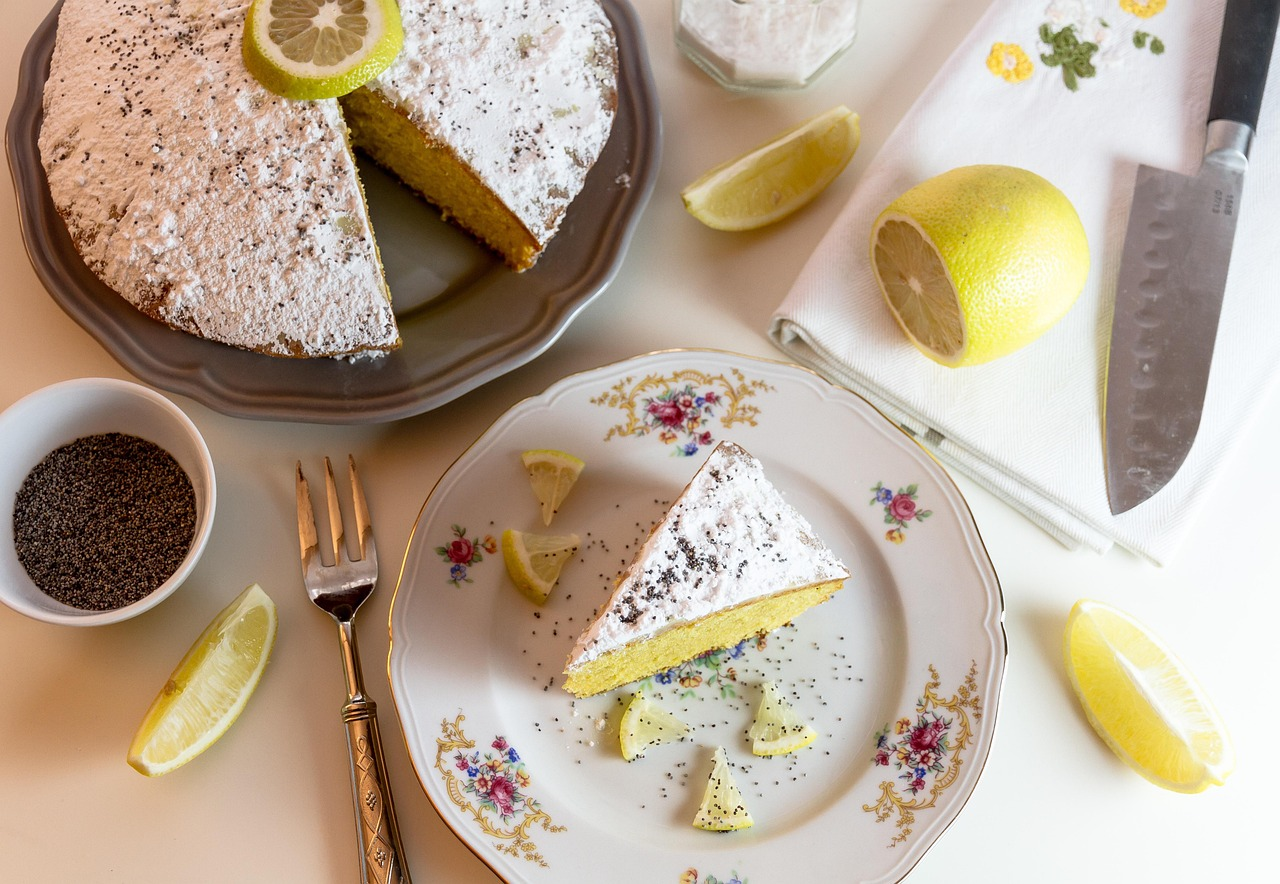knife: (1082, 0, 1280, 525)
